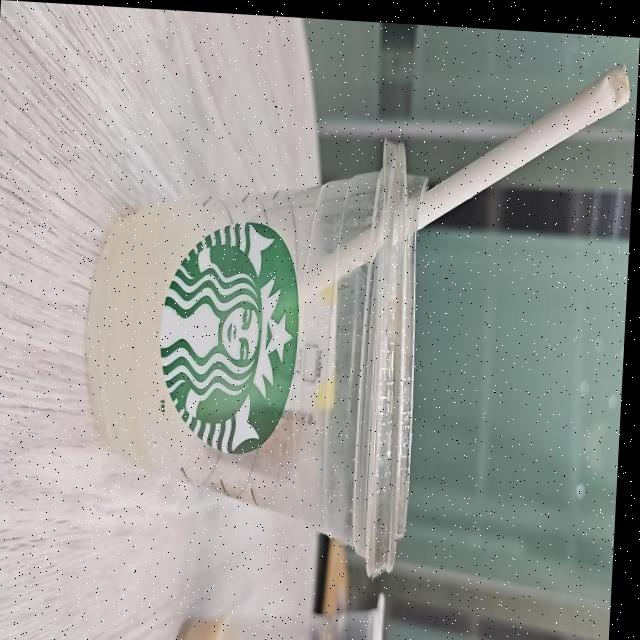cup: (78, 124, 448, 606)
